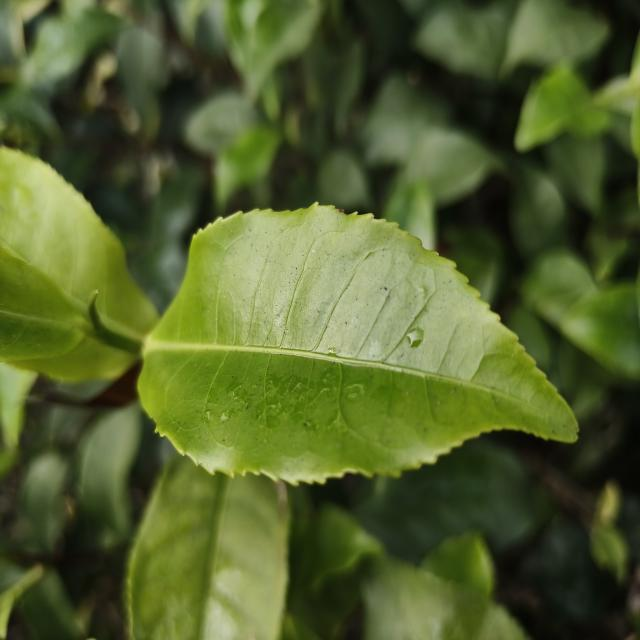Leaf: (139, 204, 577, 482), (0, 147, 159, 340), (127, 457, 289, 640), (355, 438, 542, 561), (363, 556, 527, 640), (0, 249, 84, 361), (79, 404, 141, 539), (514, 65, 609, 151), (20, 9, 121, 89), (400, 127, 503, 204), (502, 0, 609, 74), (560, 283, 640, 379), (415, 5, 506, 79), (249, 0, 322, 91), (14, 334, 137, 381), (116, 24, 166, 138), (216, 126, 281, 207), (510, 165, 566, 257), (384, 181, 436, 250), (318, 150, 368, 208)
